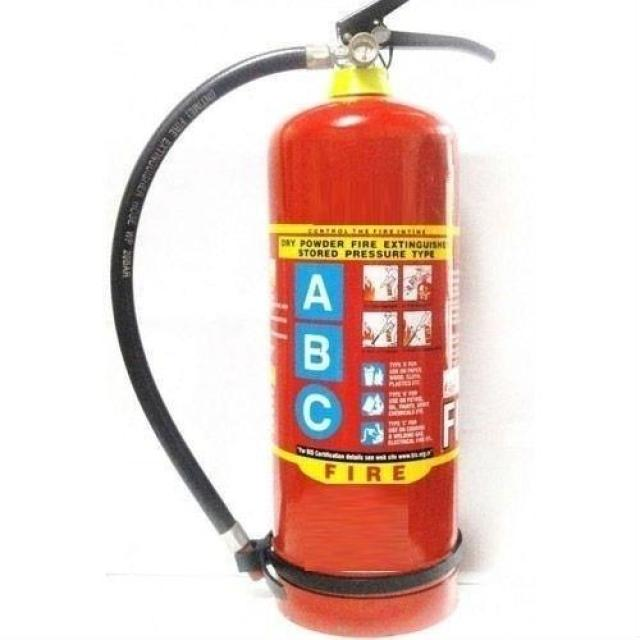fire_extinguisher: (104, 0, 498, 637)
